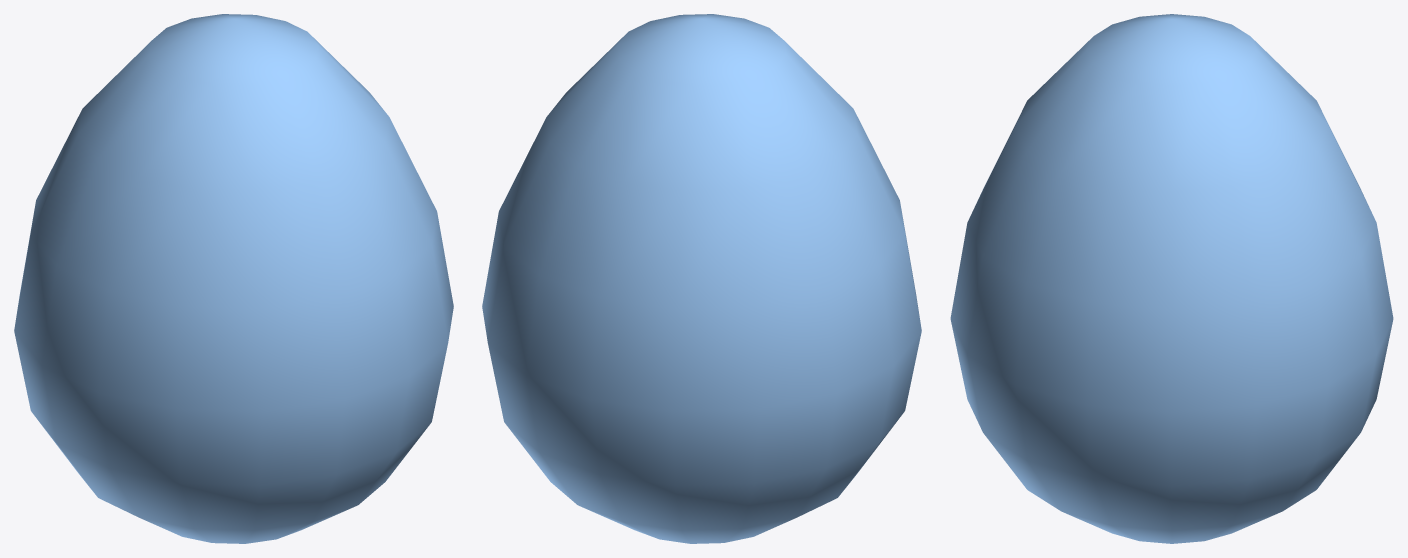
Rendered from eggSilver.glb.
The picture shows the model from 3 angles, left to right: view 1: azimuth 30°, elevation 25°; view 2: azimuth 150°, elevation 25°; view 3: azimuth 270°, elevation 25°; orthographic projection.
Parts seen in each view (by area): view 1: Sphere009; view 2: Sphere009; view 3: Sphere009.
Boxes of the visible parts, x1=… form: Sphere009: x1=14, y1=14, x2=453, y2=543; Sphere009: x1=482, y1=14, x2=921, y2=543; Sphere009: x1=950, y1=14, x2=1393, y2=543.
Size of the model in its own units: 0.1403 by 0.1761 by 0.1403.
